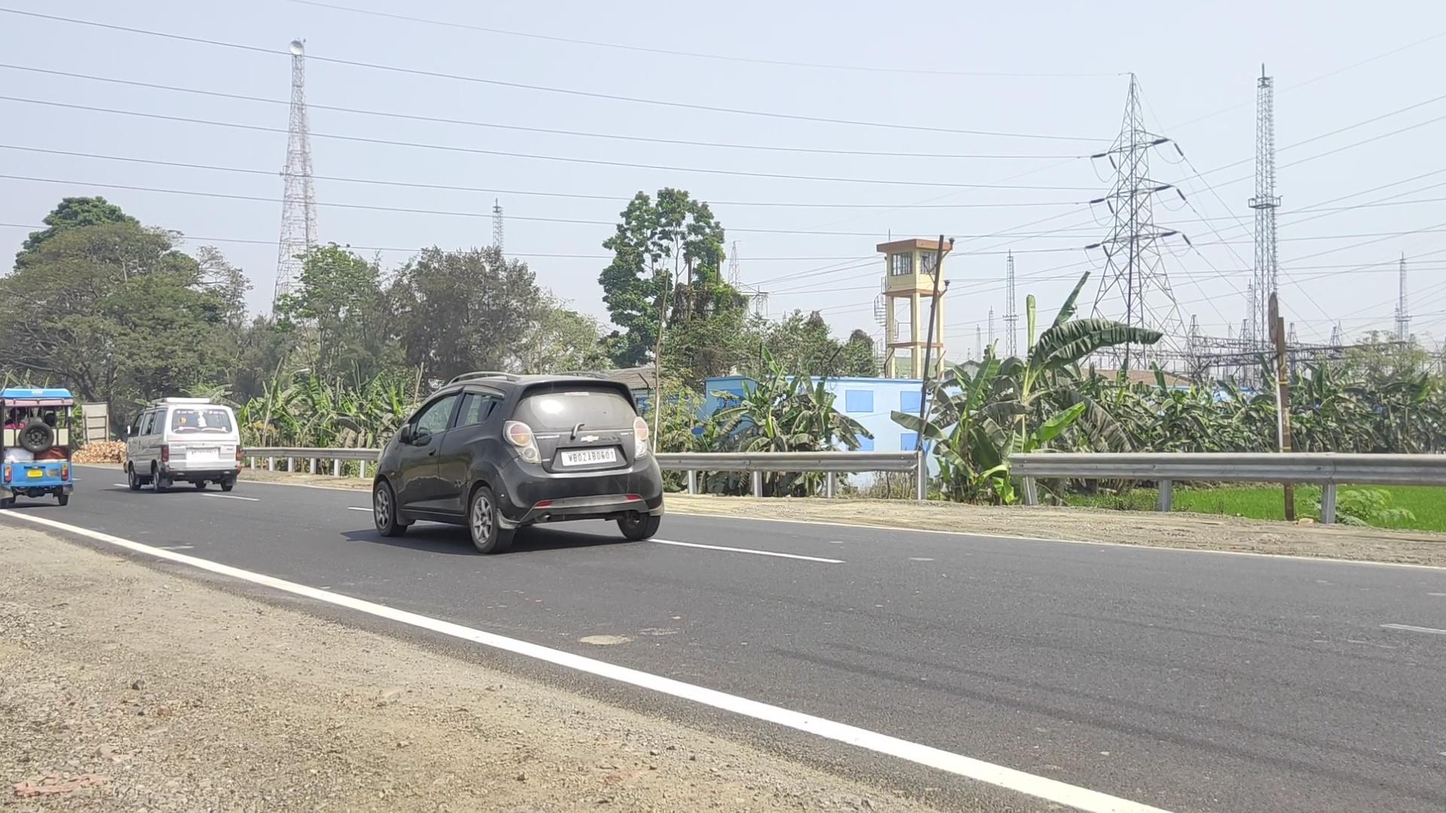Auto: (1, 388, 74, 509)
car: (372, 370, 664, 555)
van: (124, 397, 243, 494)
